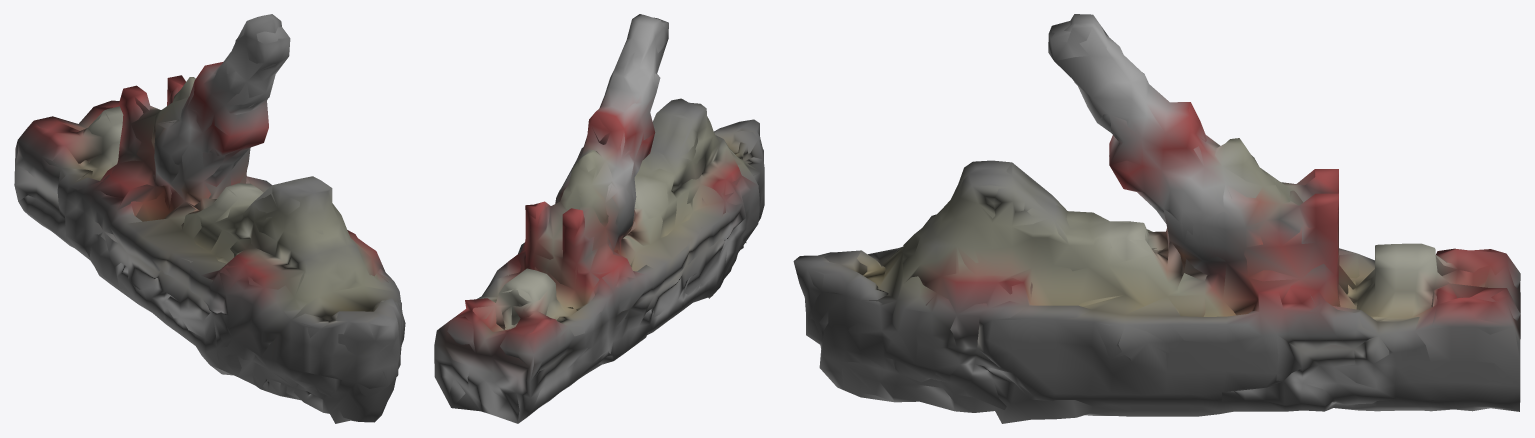
The model's file is sea_scorpion.glb.
The picture shows the model from 3 angles, left to right: view 1: azimuth 30°, elevation 25°; view 2: azimuth 150°, elevation 25°; view 3: azimuth 270°, elevation 25°; orthographic projection. The views are drawn at different scales.
Visible parts, largest first — view 1: sea_scorpion; view 2: sea_scorpion; view 3: sea_scorpion.
Part boxes in pixels (bbox=[...]): sea_scorpion: bbox=[14, 14, 405, 423]; sea_scorpion: bbox=[434, 14, 764, 423]; sea_scorpion: bbox=[793, 14, 1520, 423].
Bounding box in the file's own units: 1.42 × 2.79 × 4.93.
